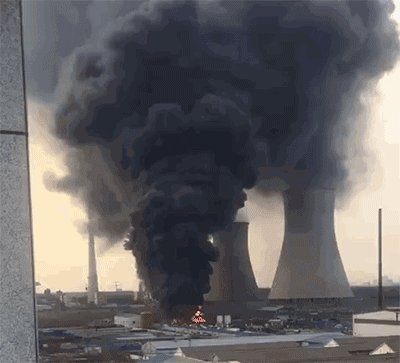smoke: (93, 10, 239, 306)
